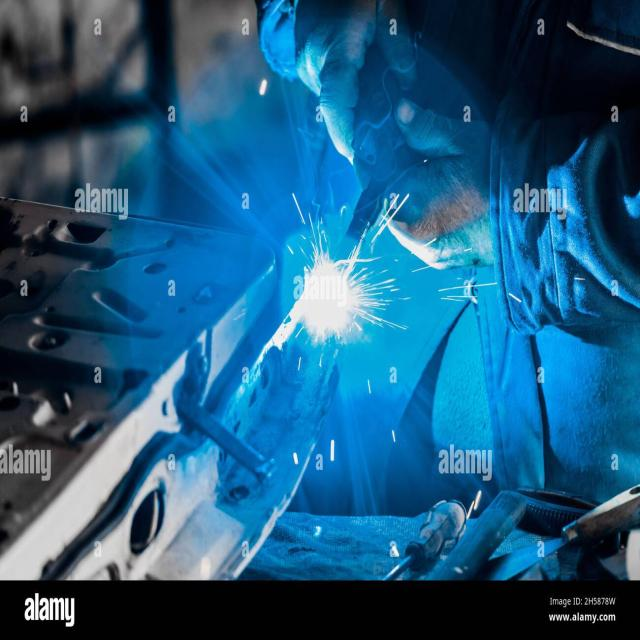welding: (305, 257, 355, 334)
